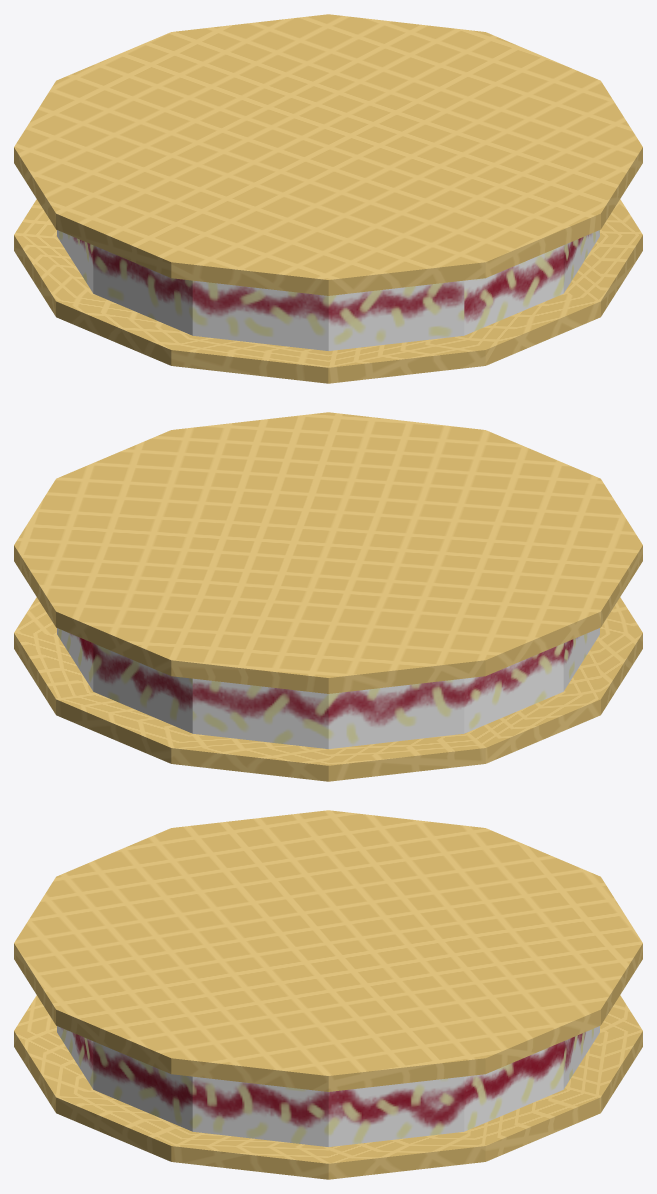
Rendered from Oblea.fbx.
3 renders of one model, top to bottom at view 1: azimuth 30°, elevation 25°; view 2: azimuth 150°, elevation 25°; view 3: azimuth 270°, elevation 25°, orthographic.
Parts seen in each view (by area): view 1: pCylinder5; view 2: pCylinder5; view 3: pCylinder5.
Part boxes in pixels (x1,y1,x2,y2): pCylinder5: [14, 14, 642, 383]; pCylinder5: [14, 412, 642, 781]; pCylinder5: [14, 810, 642, 1179].
Bounding box in the file's own units: 15.43 × 2.81 × 15.43.
Materials: 1 (1 with a texture image).
